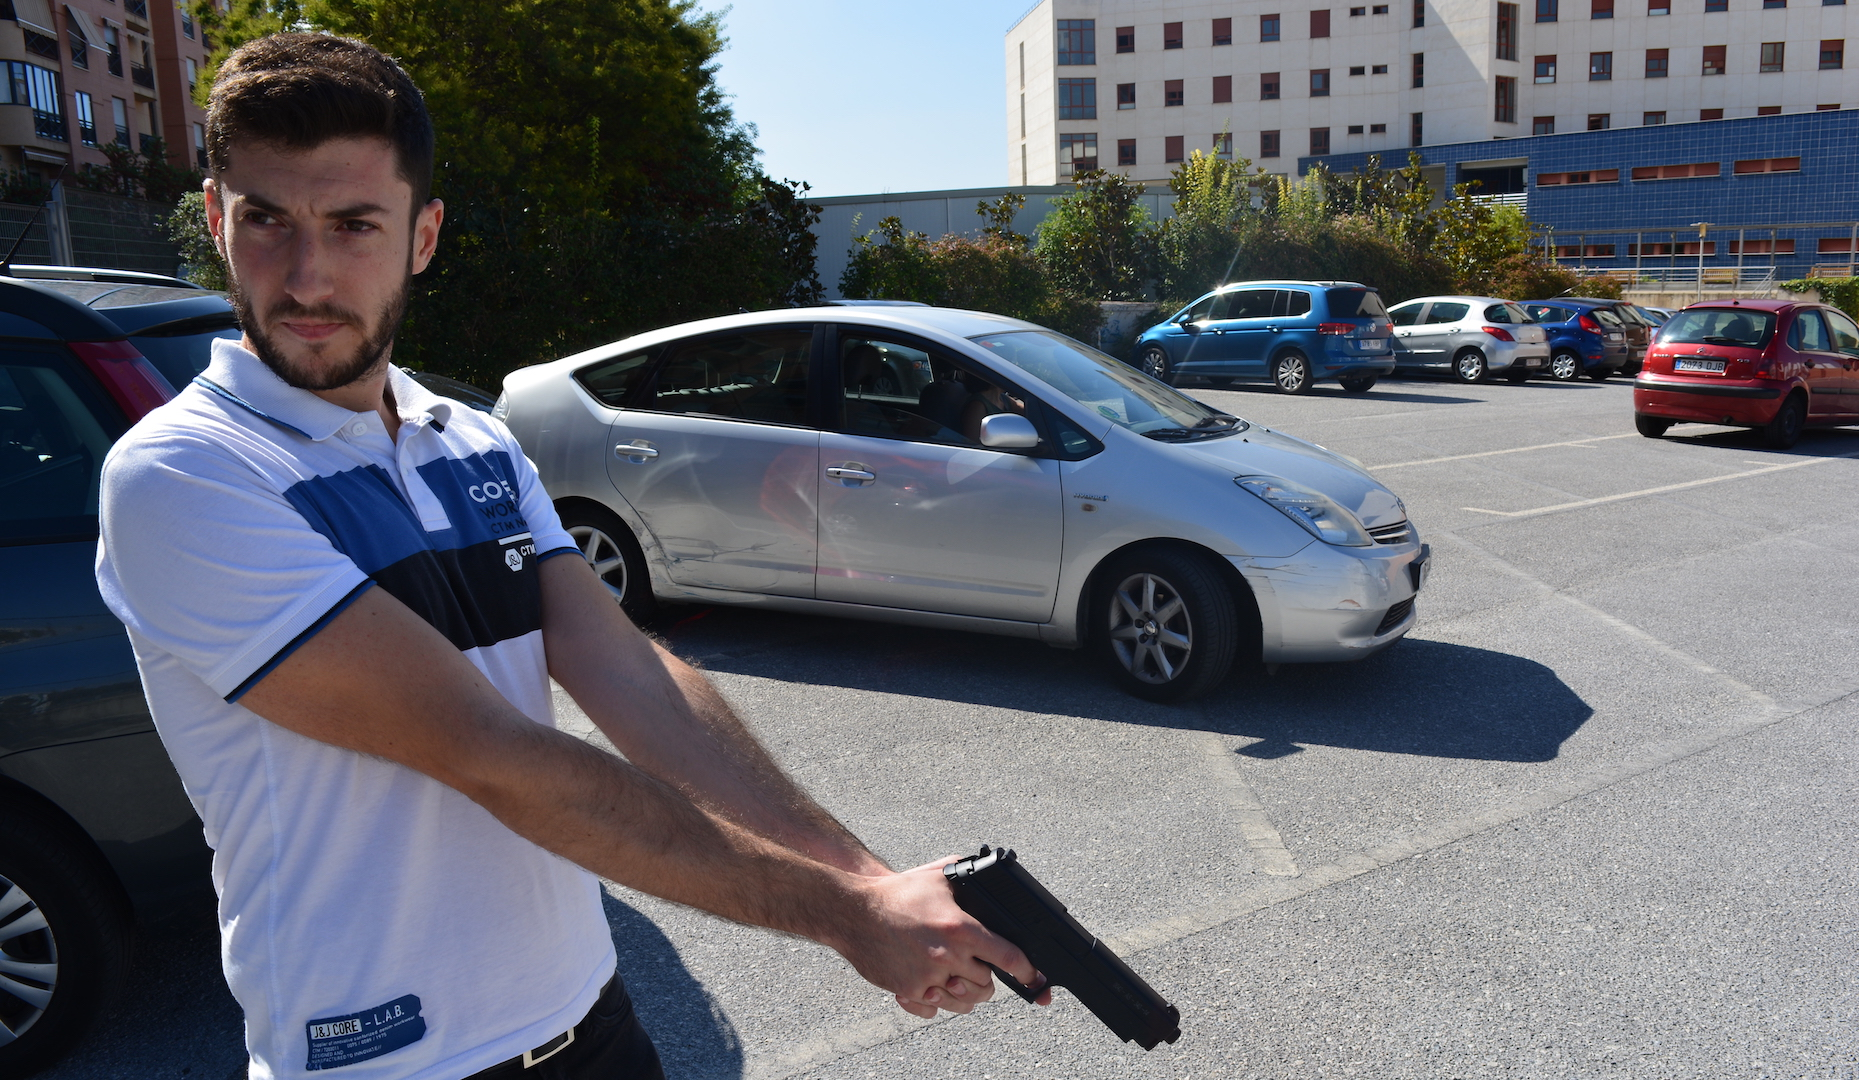pistol: (942, 842, 1183, 1053)
